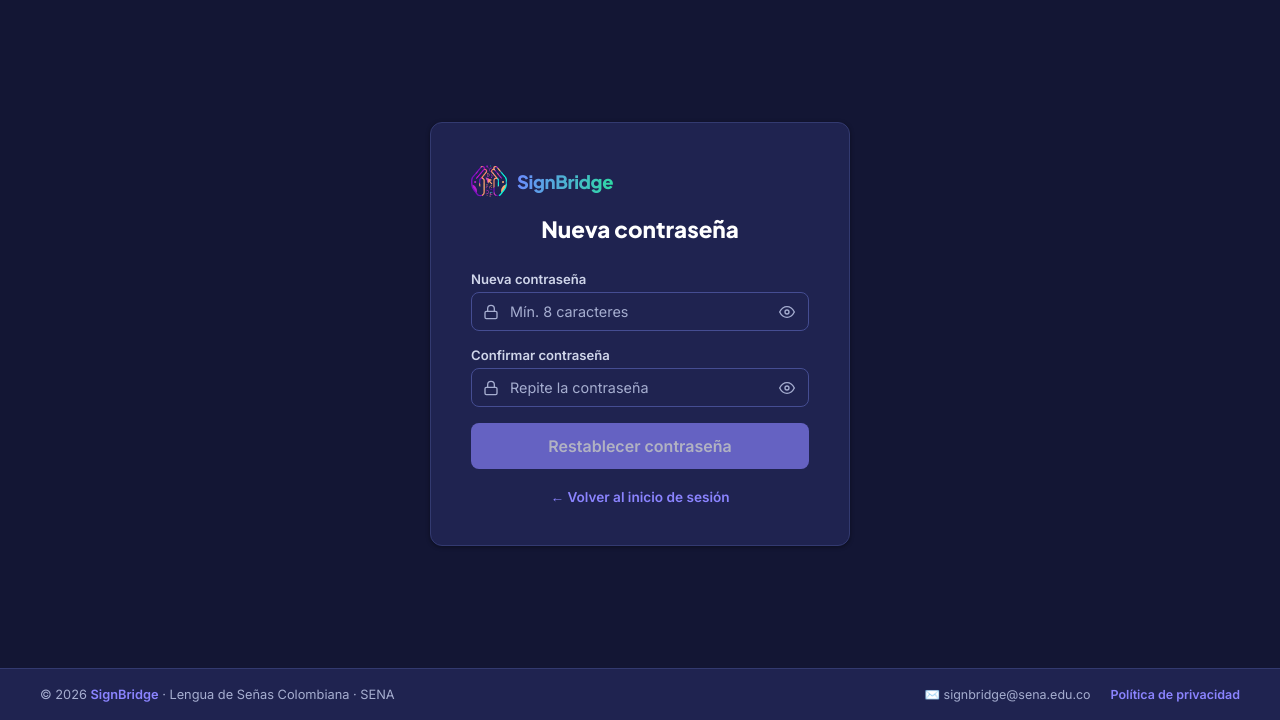
Test: ResetPassword › should send the token from the URL with the new password
Type "Clave123*" into the password field labelled "Nueva contraseña" at (640,312), box top-left (471, 292), bottom-right (809, 331)
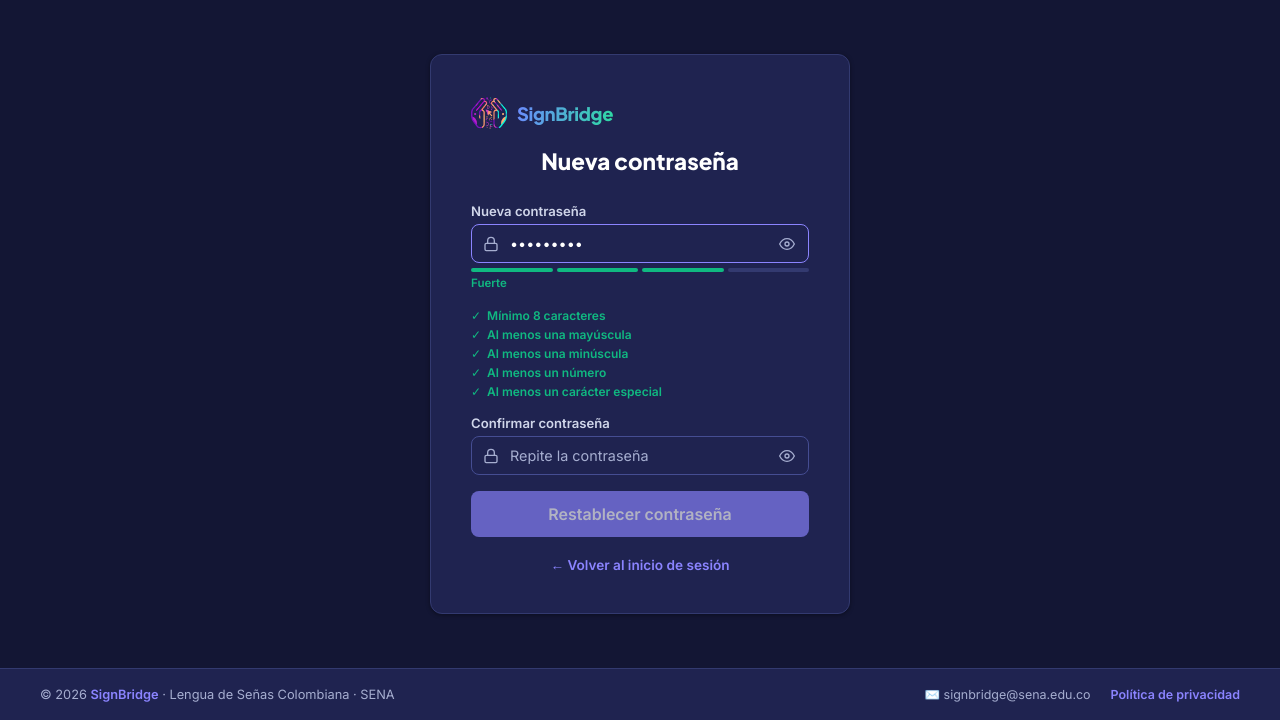
Type "Clave123*" into the password field labelled "Confirmar contraseña" at (640,456), box top-left (471, 436), bottom-right (809, 475)
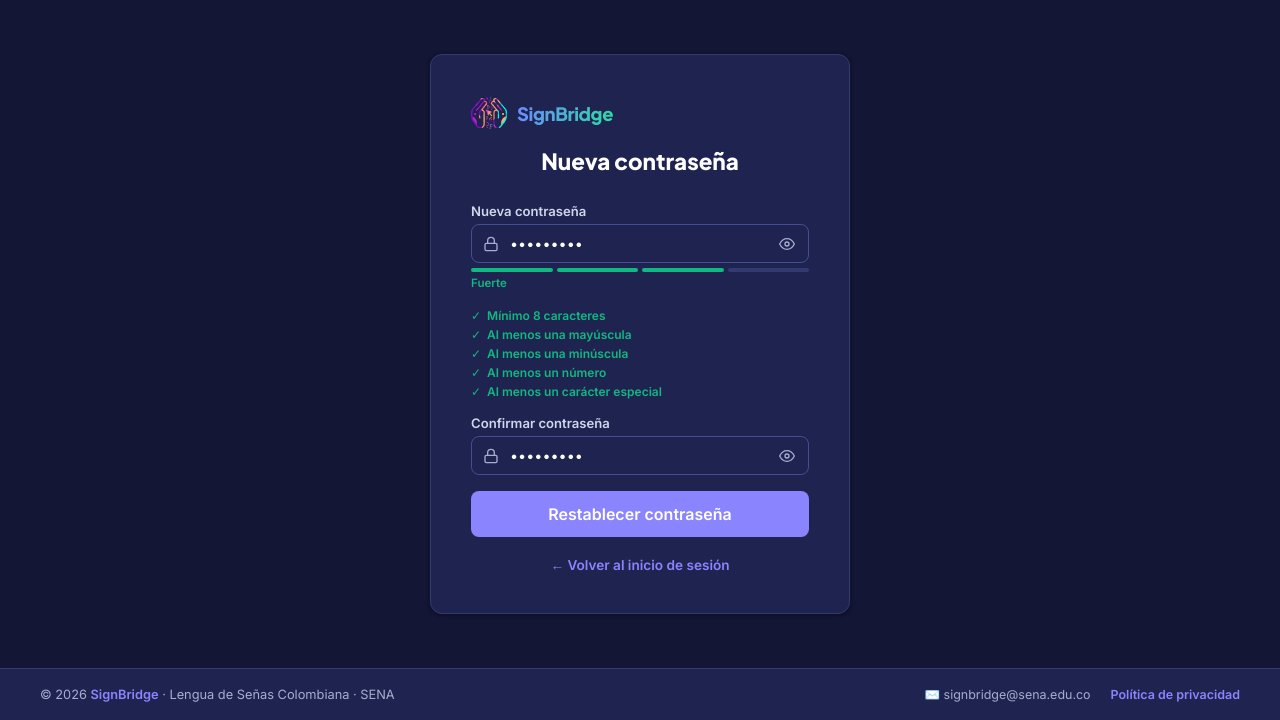
Click the button "Restablecer contraseña" at (640,514), box top-left (471, 491), bottom-right (809, 537)
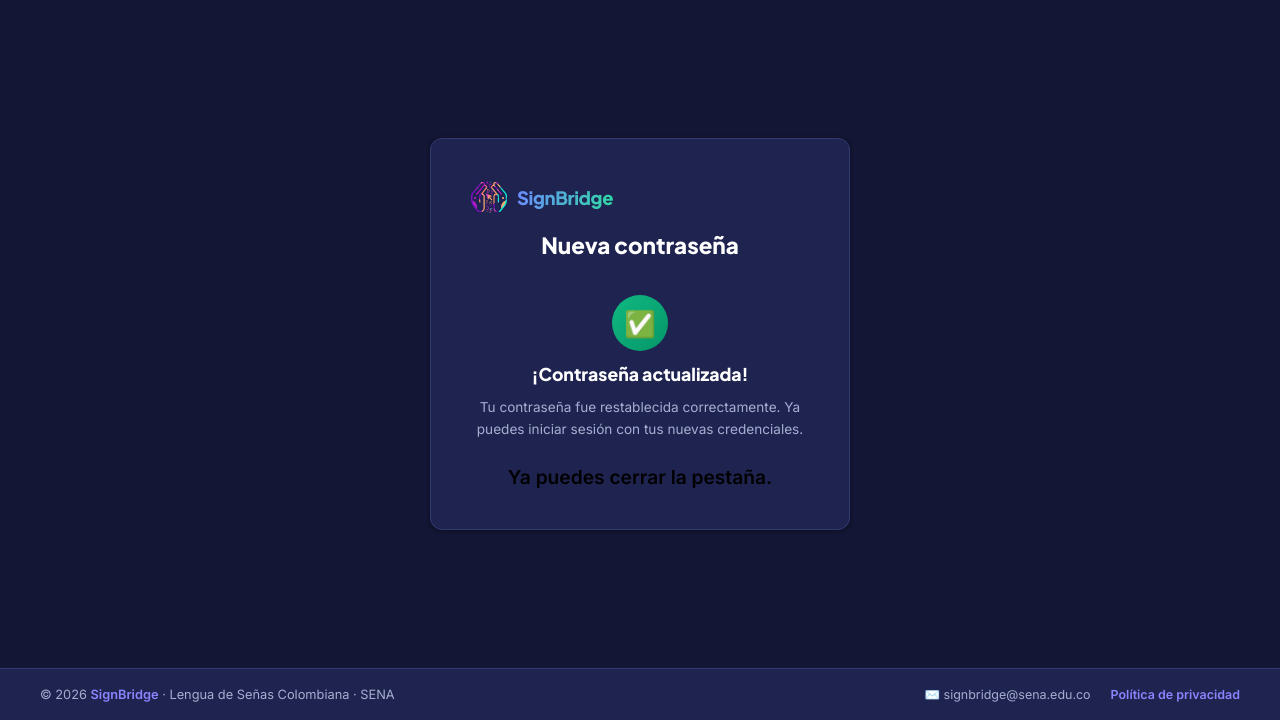
Expected: the heading "¡Contraseña actualizada!" is shown, top-left (532, 363), bottom-right (749, 385)
